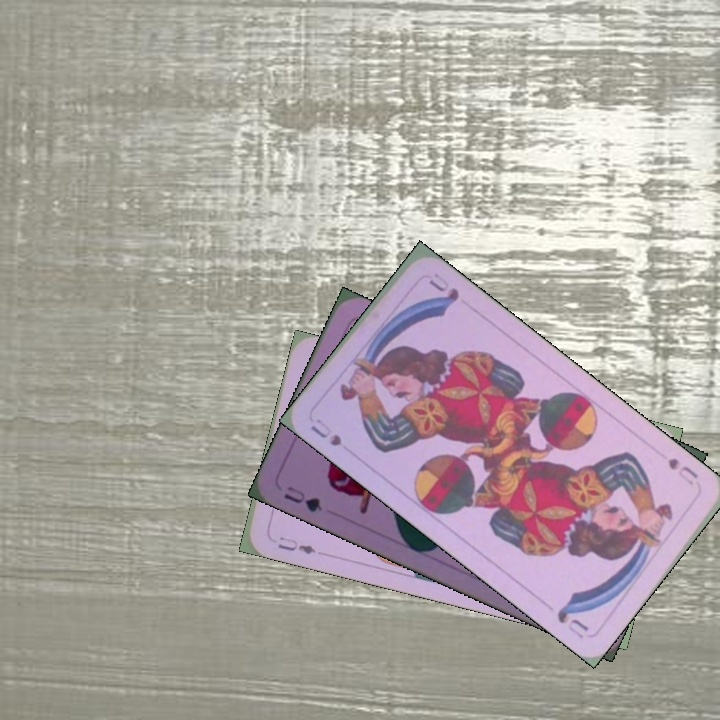EU: (273, 532, 318, 557)
GU: (279, 482, 325, 515)
SU: (306, 414, 345, 449), (663, 453, 701, 482)
